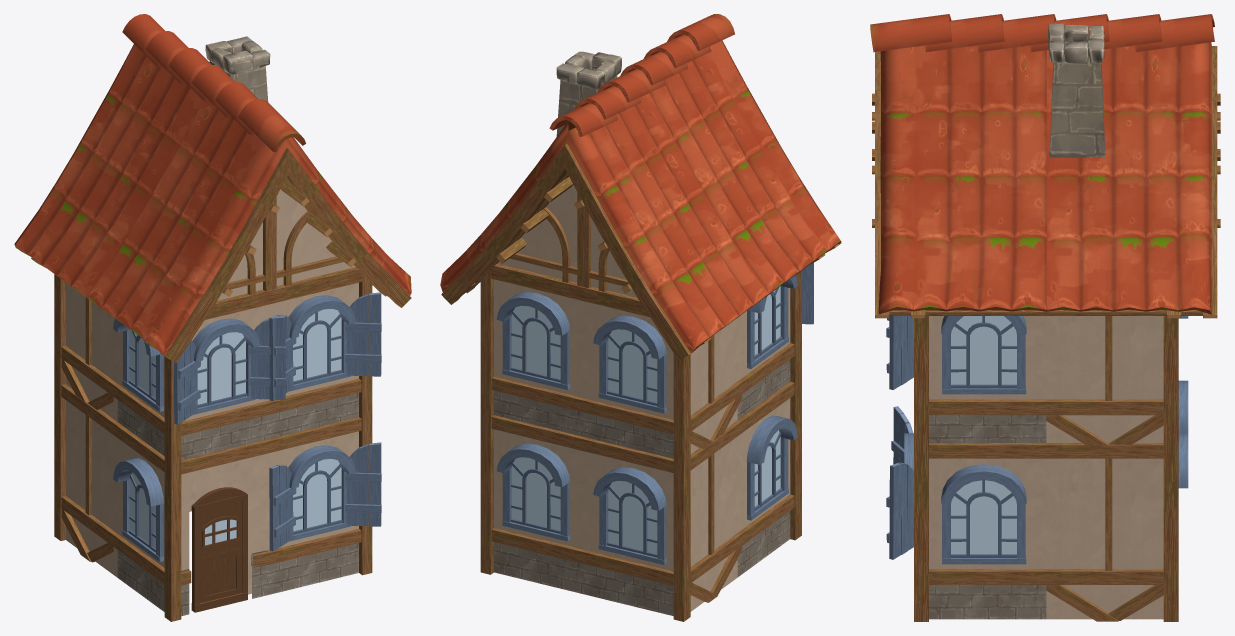
Rendered from house_peach.glb.
3 views of the same model, side by side, from view 1: azimuth 30°, elevation 25°; view 2: azimuth 150°, elevation 25°; view 3: azimuth 270°, elevation 25° (orthographic). The views are drawn at different scales.
Parts seen in each view (by area): view 1: Roof_RoundTiles_4x4, Wall_Plaster_Door_Round, Window_Wide_Round1, Corner_Exterior_Wood, Wall_Plaster_Window_Wide_Round, Door_1_Round, Roof_Front_Brick4, Prop_Chimney; view 2: Roof_RoundTiles_4x4, Wall_Plaster_Door_Round, Window_Wide_Round1, Corner_Exterior_Wood, Wall_Plaster_Window_Wide_Round, Door_1_Round, Roof_Front_Brick4, Prop_Chimney; view 3: Roof_RoundTiles_4x4, Wall_Plaster_Door_Round, Window_Wide_Round1, Corner_Exterior_Wood, Door_1_Round, Wall_Plaster_Window_Wide_Round, Prop_Chimney.
Part boxes in pixels (x1,y1,x2,y2): Roof_RoundTiles_4x4: (14,14,411,355); Wall_Plaster_Door_Round: (15,148,411,616); Window_Wide_Round1: (113,292,381,561); Corner_Exterior_Wood: (54,181,372,621); Wall_Plaster_Window_Wide_Round: (117,393,358,611); Door_1_Round: (130,309,341,548); Roof_Front_Brick4: (217,189,355,300); Prop_Chimney: (205,36,270,101); Roof_RoundTiles_4x4: (440,14,841,353); Wall_Plaster_Door_Round: (441,143,841,611); Window_Wide_Round1: (496,262,813,564); Corner_Exterior_Wood: (480,177,801,621); Wall_Plaster_Window_Wide_Round: (494,359,790,615); Door_1_Round: (511,286,780,553); Roof_Front_Brick4: (497,176,637,297); Prop_Chimney: (556,51,621,136); Roof_RoundTiles_4x4: (870,14,1214,314); Wall_Plaster_Door_Round: (875,46,1217,621); Window_Wide_Round1: (886,316,1188,564); Corner_Exterior_Wood: (872,93,1220,621); Door_1_Round: (951,316,1016,554); Wall_Plaster_Window_Wide_Round: (929,415,1046,619); Prop_Chimney: (1048,23,1105,158).
Size of the model in its own units: 5.51 by 9.78 by 5.62.
7 materials, 6 textured.
